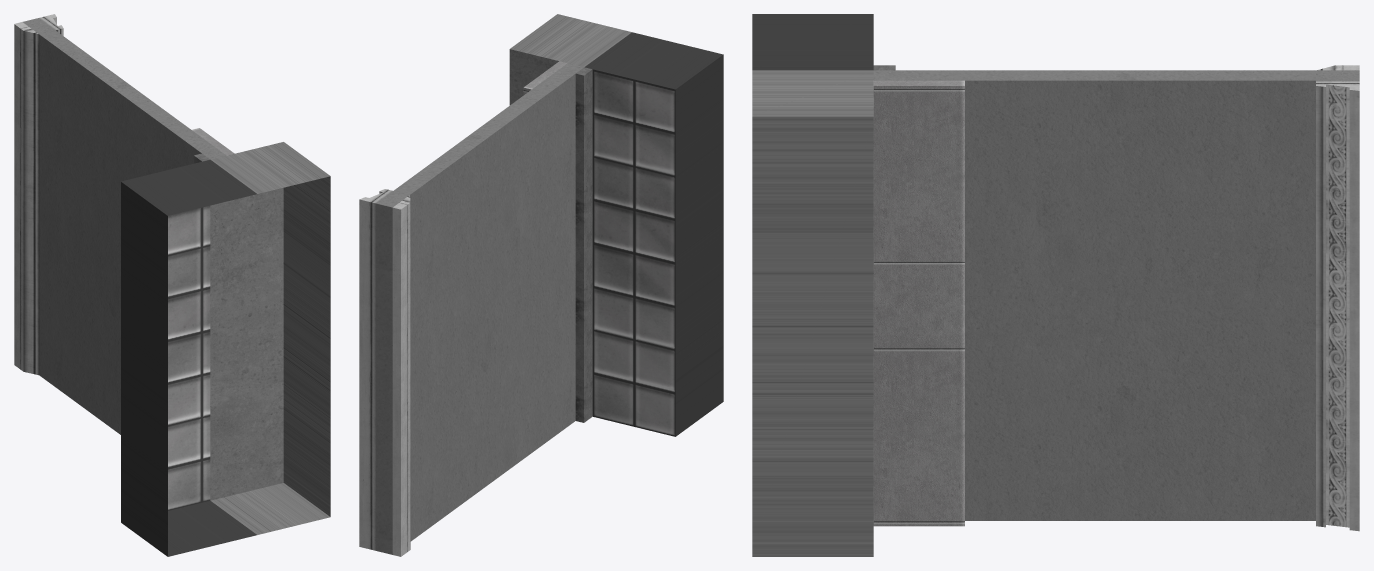
Rendered from A_ground_wall_ 4m.fbx.
3 renders of one model, left to right at view 1: azimuth 30°, elevation 25°; view 2: azimuth 150°, elevation 25°; view 3: azimuth 270°, elevation 25°, orthographic. The views are drawn at different scales.
Parts seen in each view (by area): view 1: A_ground_wall__4m; view 2: A_ground_wall__4m; view 3: A_ground_wall__4m.
Boxes of the visible parts, x1,y1,x2,y2 form: A_ground_wall__4m: (14, 14, 330, 556); A_ground_wall__4m: (359, 14, 723, 556); A_ground_wall__4m: (752, 14, 1359, 556).
Bounding box in the file's own units: 2 × 4 × 5.
